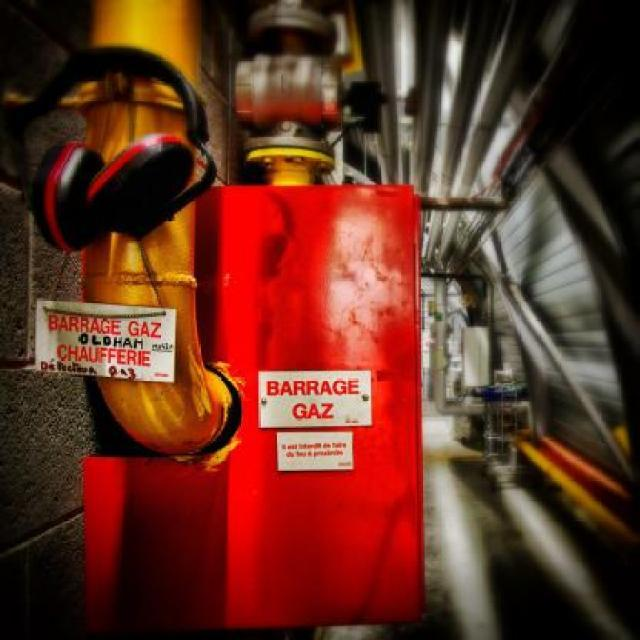earphone: (37, 45, 225, 258)
